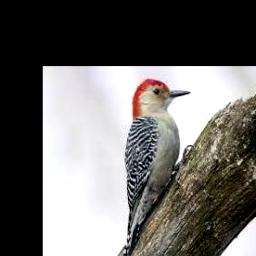Woodpecker: (112, 79, 190, 256)
